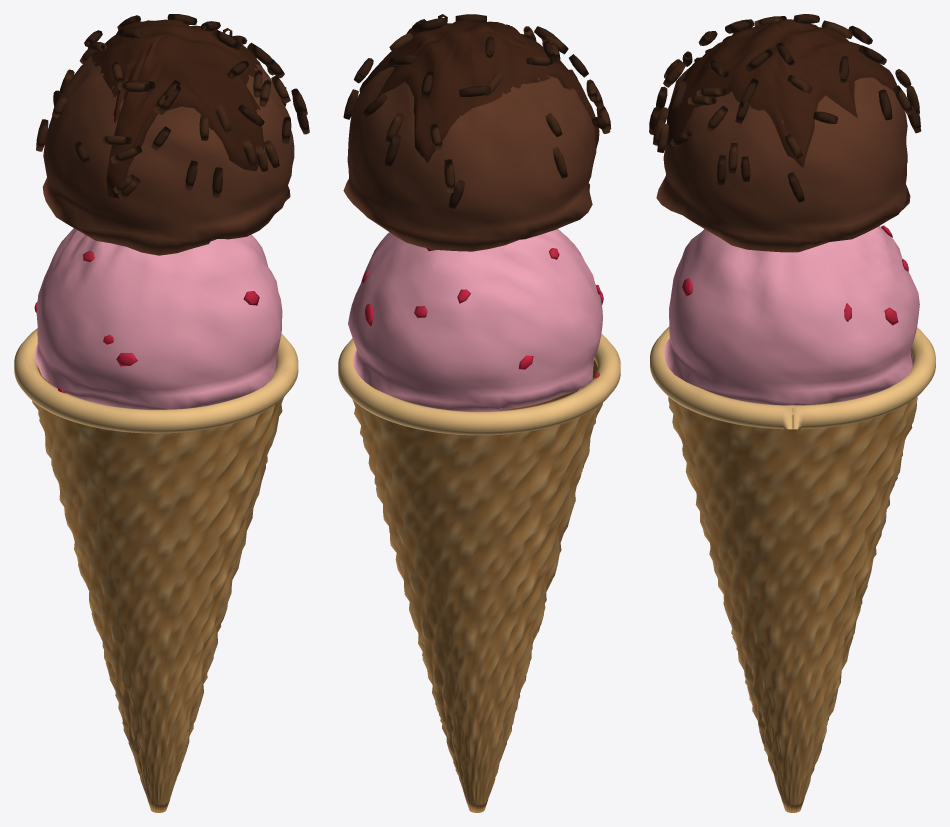
The model's file is sorvete-casquinha.glb.
The picture shows the model from 3 angles, left to right: view 1: azimuth 30°, elevation 25°; view 2: azimuth 150°, elevation 25°; view 3: azimuth 270°, elevation 25°; orthographic projection.
Parts seen in each view (by area): view 1: casquinha, bola_0_morango, bola_1_chocolate, calda_0, granulado_0_0; view 2: casquinha, bola_0_morango, bola_1_chocolate, calda_0, granulado_0_0; view 3: casquinha, bola_0_morango, bola_1_chocolate, calda_0, granulado_0_0.
Boxes of the visible parts, x1,y1,x2,y2 form: casquinha: (14,328,298,812); bola_0_morango: (34,228,282,409); bola_1_chocolate: (42,54,294,255); calda_0: (91,19,264,198); granulado_0_0: (36,14,309,199); casquinha: (338,334,620,812); bola_0_morango: (348,229,603,411); bola_1_chocolate: (343,67,596,251); calda_0: (359,20,599,162); granulado_0_0: (343,14,611,208); casquinha: (650,327,935,812); bola_0_morango: (664,225,919,411); bola_1_chocolate: (656,67,910,252); calda_0: (666,19,897,167); granulado_0_0: (649,14,921,202).
Size of the model in its own units: 0.0633 by 0.185 by 0.0611.
